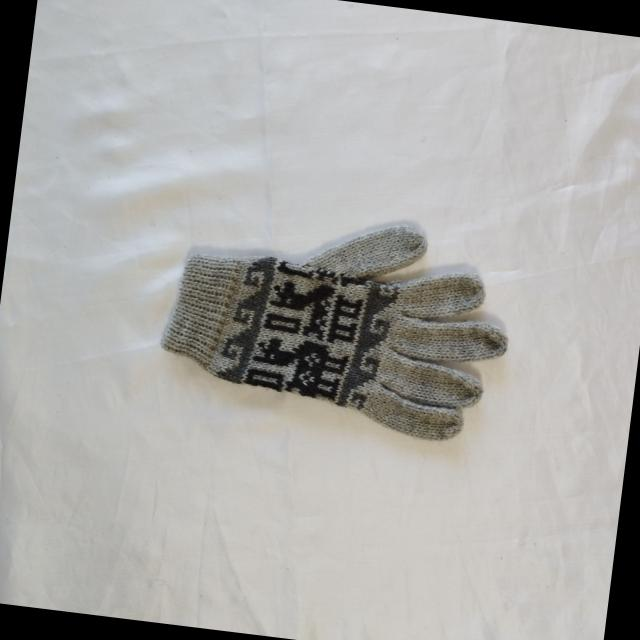Guante: (153, 195, 522, 449)
